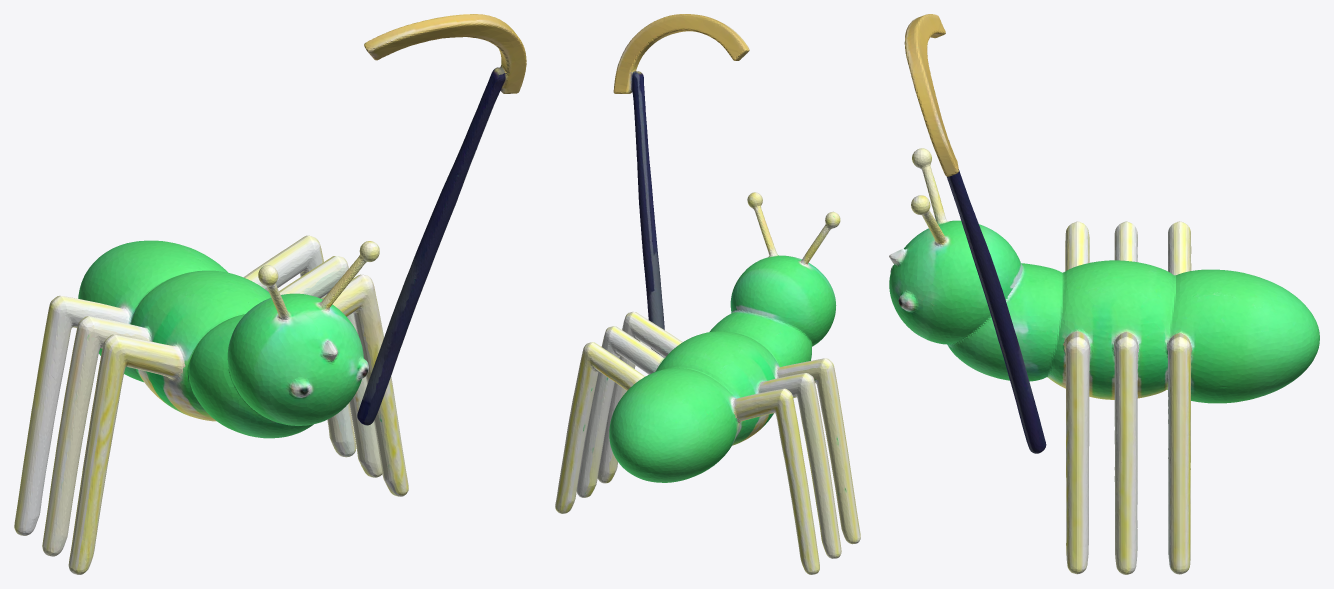
Rendered from creature-050.glb.
3 views of the same model, side by side, from view 1: azimuth 30°, elevation 25°; view 2: azimuth 150°, elevation 25°; view 3: azimuth 270°, elevation 25° (orthographic). The views are drawn at different scales.
Parts seen in each view (by area): view 1: tmp3h55npuh.ply; view 2: tmp3h55npuh.ply; view 3: tmp3h55npuh.ply.
Boxes of the visible parts, left/top/right/bottom form: tmp3h55npuh.ply: left=14, top=14, right=526, bottom=574; tmp3h55npuh.ply: left=555, top=14, right=860, bottom=574; tmp3h55npuh.ply: left=889, top=14, right=1319, bottom=574.
Bounding box in the file's own units: 1.45 × 1.99 × 1.48.
1 material, 1 textured.
